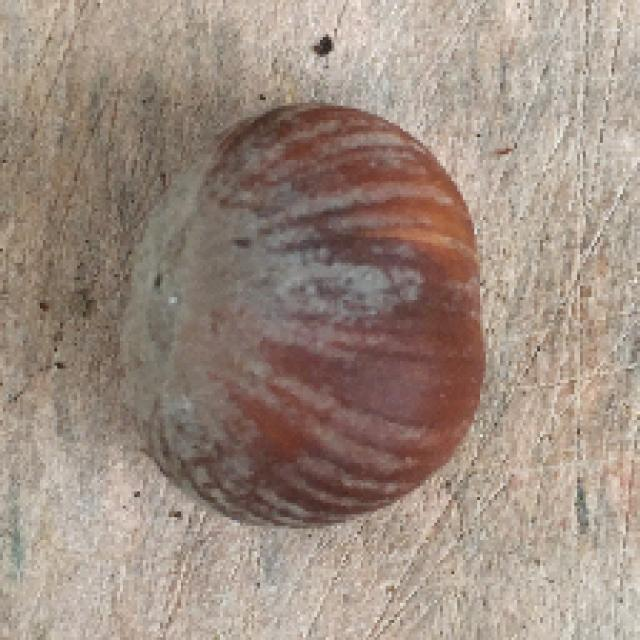damagedHazelnut: (114, 98, 489, 540)
